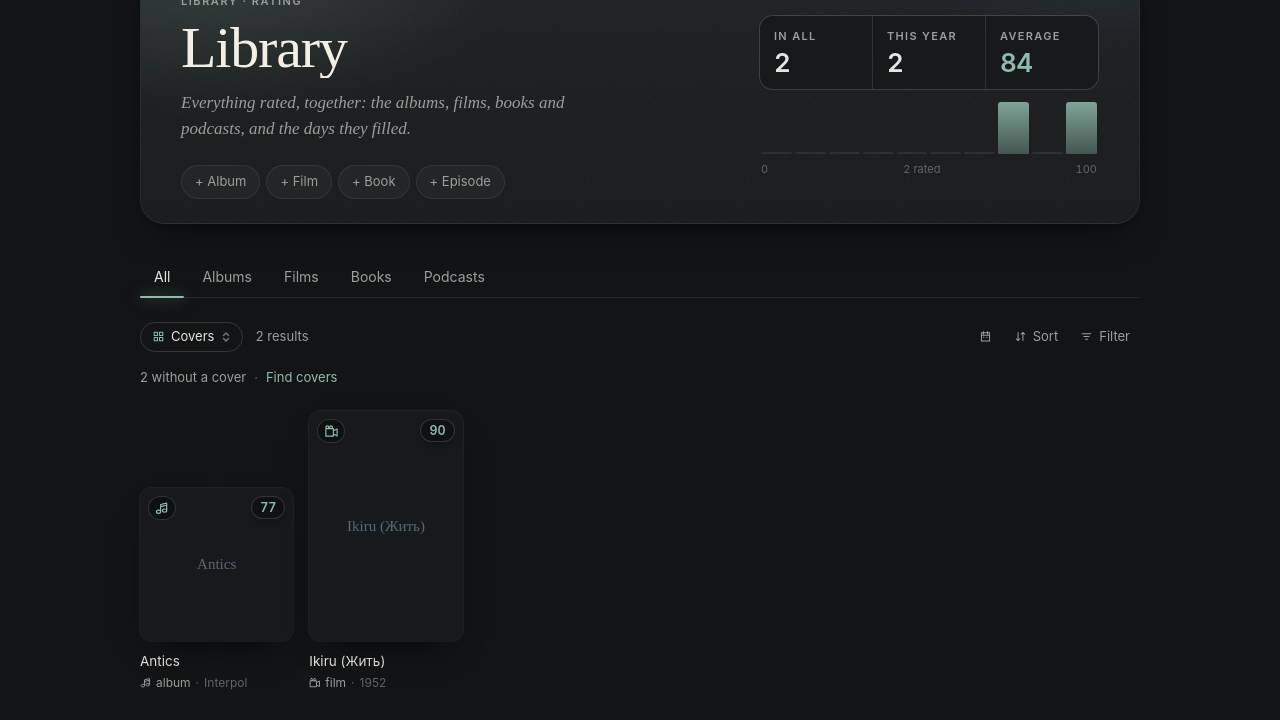
Find covers, in the library › offers the notes in view without a cover, finds them, ticks the sure ones and saves those ticked
Expected: the element with test id "library-missing" reads "2 without a cover · Find covers", [140,368,337,387]
Click the button with test id "find-covers-open" at [302, 378], box [266,368,337,387]
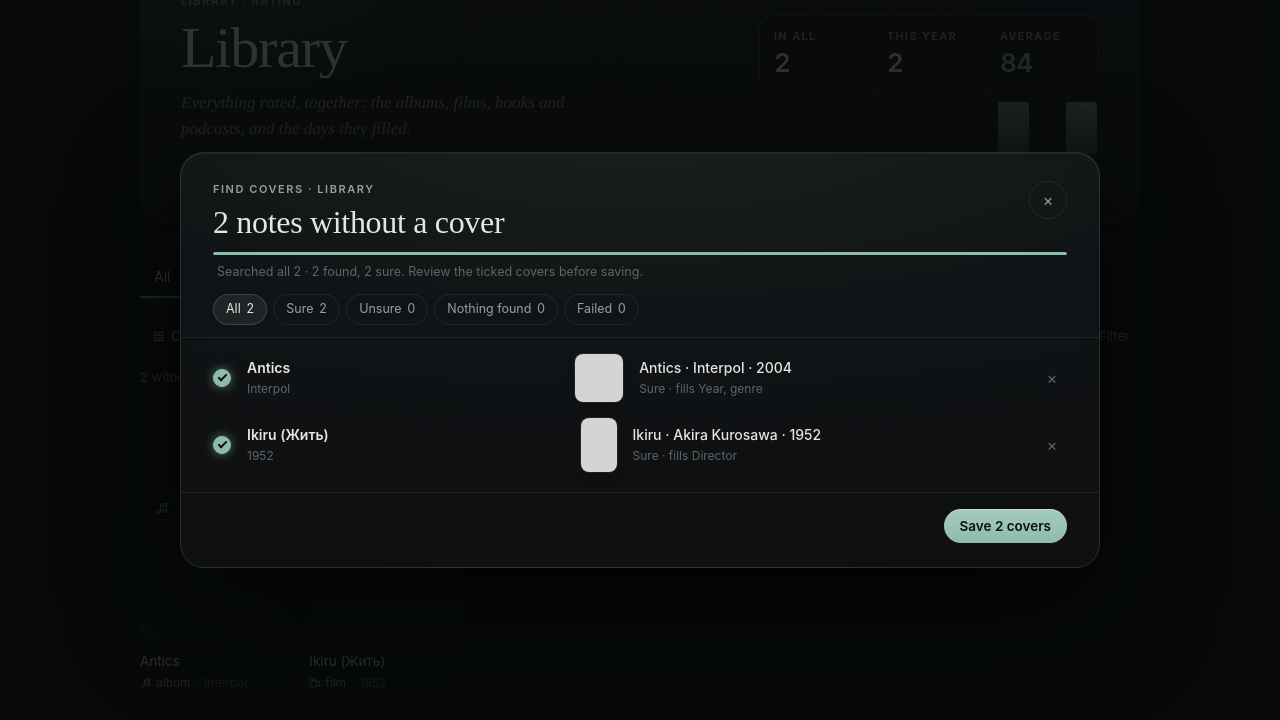
Expected: the dialog "Find covers" shows "2 notes without a cover", [180,152,1100,568]
Expected: the text with test id "covers-found" reads "Antics · Interpol · 2004", [639,360,792,376]
Expected: the list item with test id "covers-row" shows "Sure · fills Year, genre", [639,382,763,396]
# Unticked, the film is left as it is.
Click the 2nd checkbox with test id "covers-tick" at [222, 445], box [213,436,231,454]
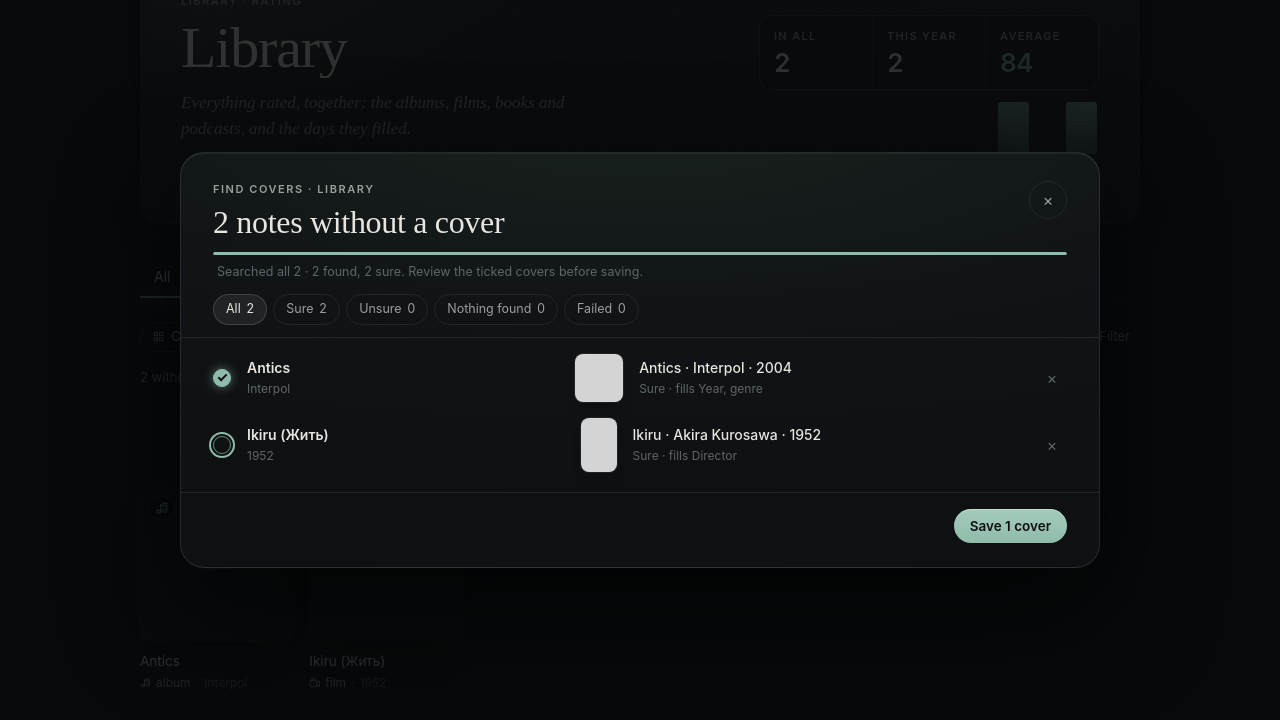
Click the button with test id "covers-save" at [1010, 526], box [954,509,1067,543]
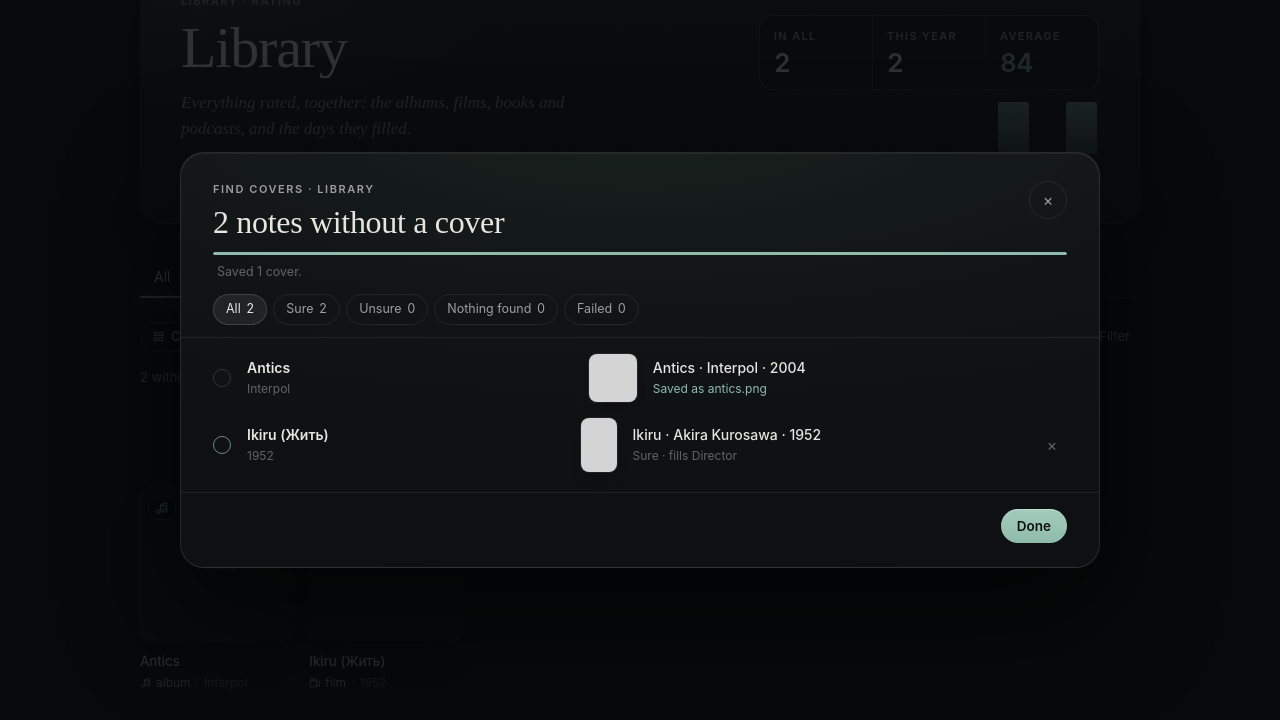
Expected: the text with test id "covers-hint" reads "Saved 1 cover.", [217,264,302,280]
Click the button with test id "covers-done" at [1034, 526], box [1001,509,1067,543]
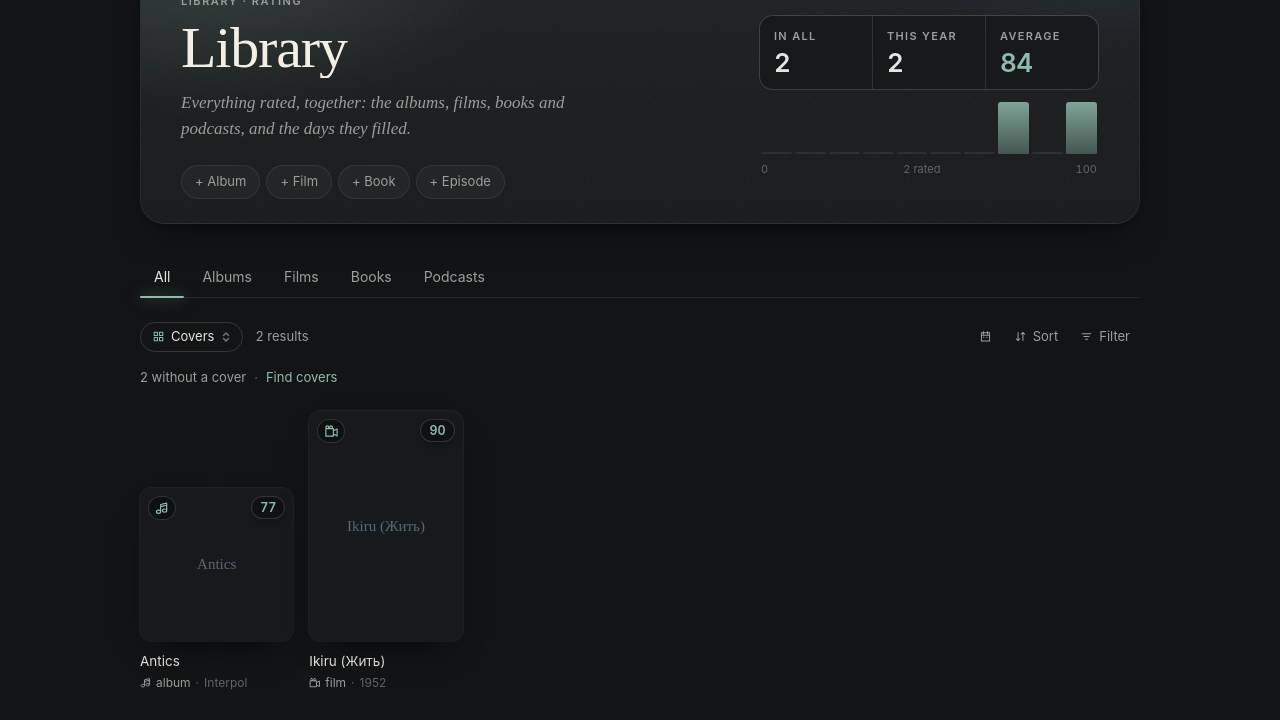
Expected: the element with test id "find-covers" is gone
